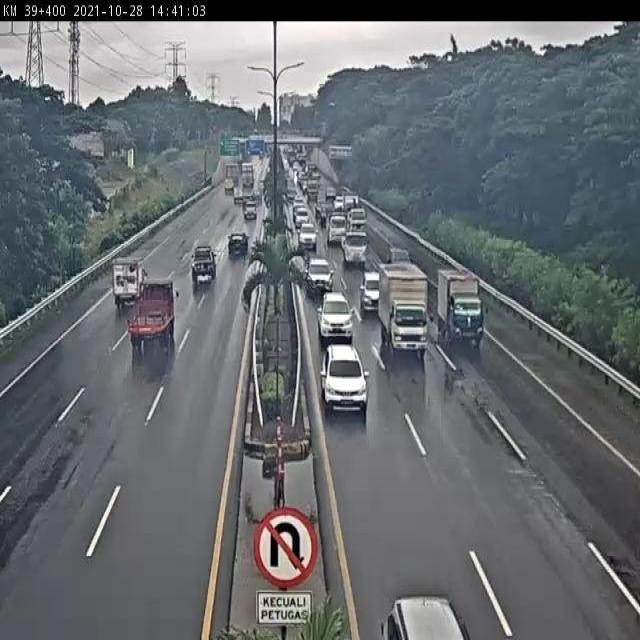car: (320, 343, 369, 416), (318, 291, 355, 340), (305, 255, 335, 297), (191, 242, 218, 282), (359, 270, 381, 318)
mid truck: (127, 279, 177, 345)
small truck: (110, 255, 147, 308)
truck-m-: (379, 263, 429, 357)
truck-s-: (435, 265, 484, 351)
